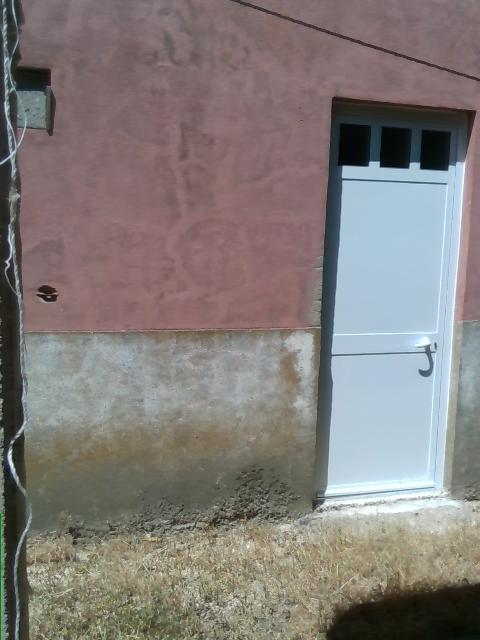door: (313, 97, 477, 504)
